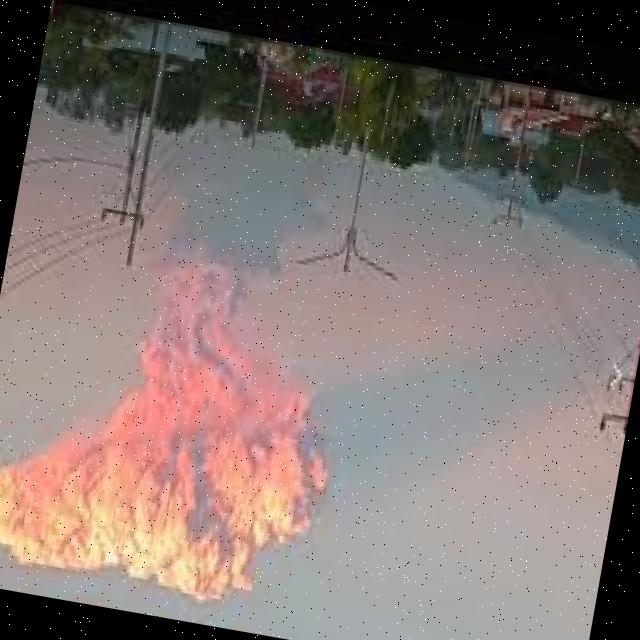explosion: (0, 62, 413, 632)
